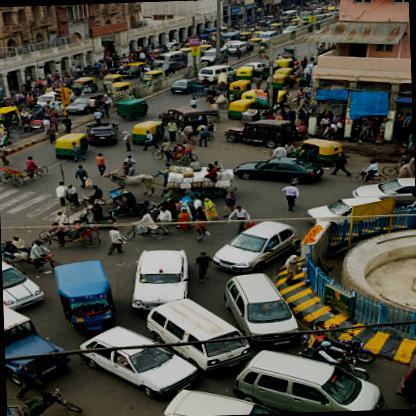car: (232, 344, 386, 414), (78, 322, 198, 398), (148, 294, 249, 374), (229, 272, 300, 344), (211, 218, 302, 274), (149, 386, 319, 415), (128, 248, 191, 309), (233, 154, 325, 182), (3, 252, 44, 310), (350, 177, 415, 208), (196, 65, 236, 81)
motorcycle: (308, 324, 372, 364)
